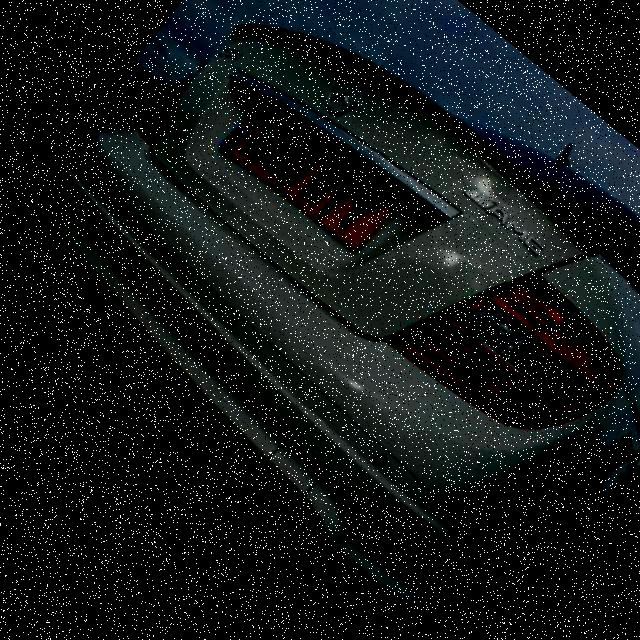license_plate: (204, 92, 400, 265)
